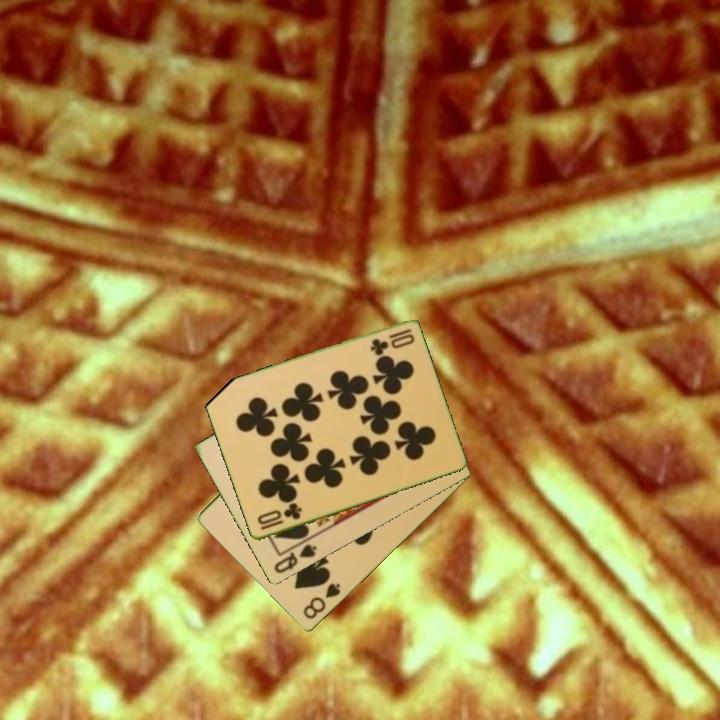10c: (254, 500, 305, 533), (366, 326, 417, 357)
8s: (300, 580, 344, 623)
Qs: (270, 541, 320, 577)
